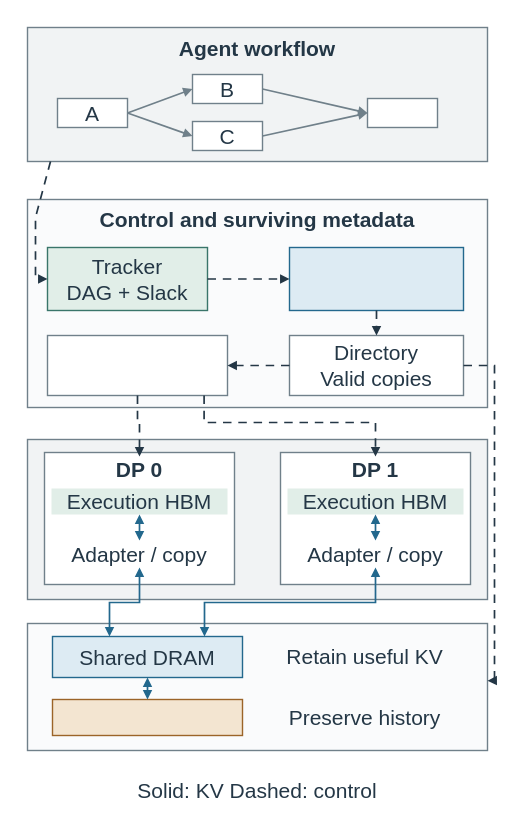
The diagram is 519 pixels wide and 834 high, and some of its shapes have lost their labels. Each missing label, with the centre of its shape:
"Join" goes at (402,112).
"KV Master Value + rent" goes at (376,278).
"Router Dispatch / retry" goes at (137,365).
"SSD / storage" goes at (147,717).
